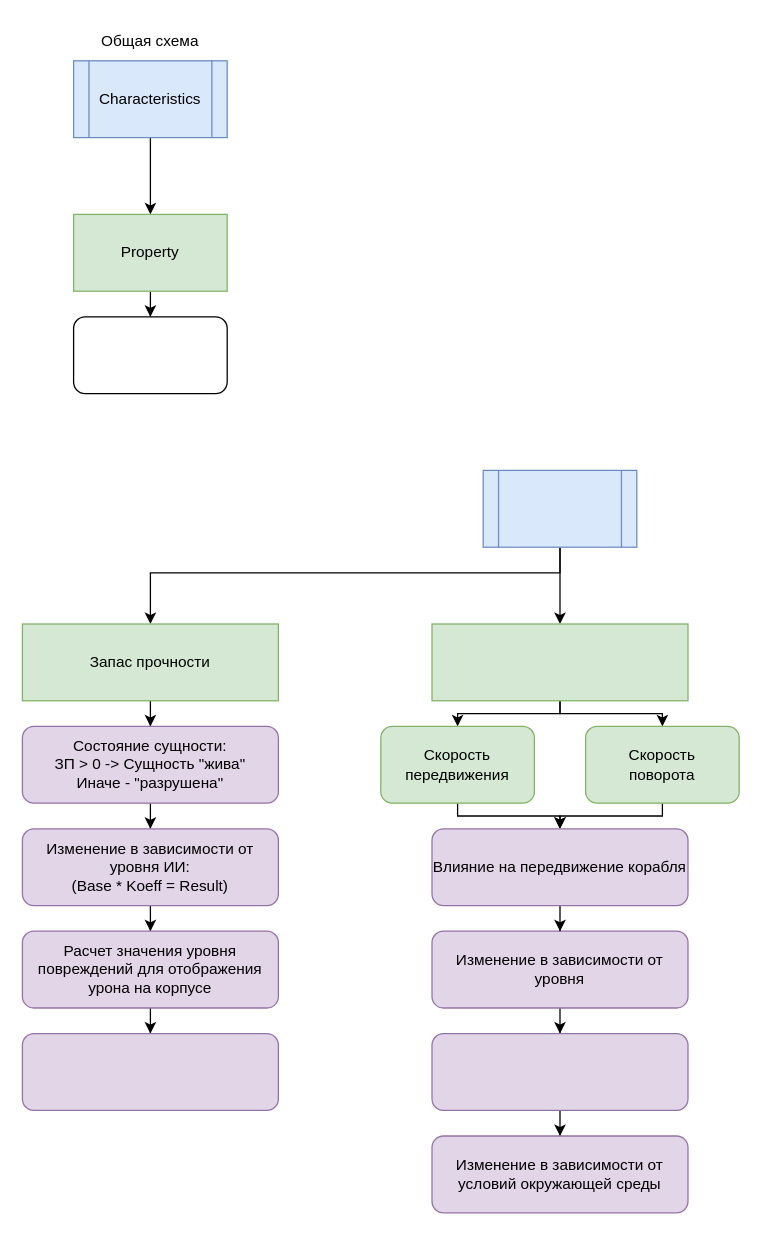
Some shapes in this 762 by 1235 pixel diagram are drawn without their labels. The centre of each missing label's shape, as x and y in pixels:
"Изменение в зависимости от уровня повреждений" belongs at (559,1071).
"Отображение уровня ХП над кораблем" belongs at (149,1071).
"Поведение сущности в зависимости от значения Property" belongs at (149,355).
"Скорость" belongs at (559,662).
"Характеристики корабля" belongs at (559,508).
